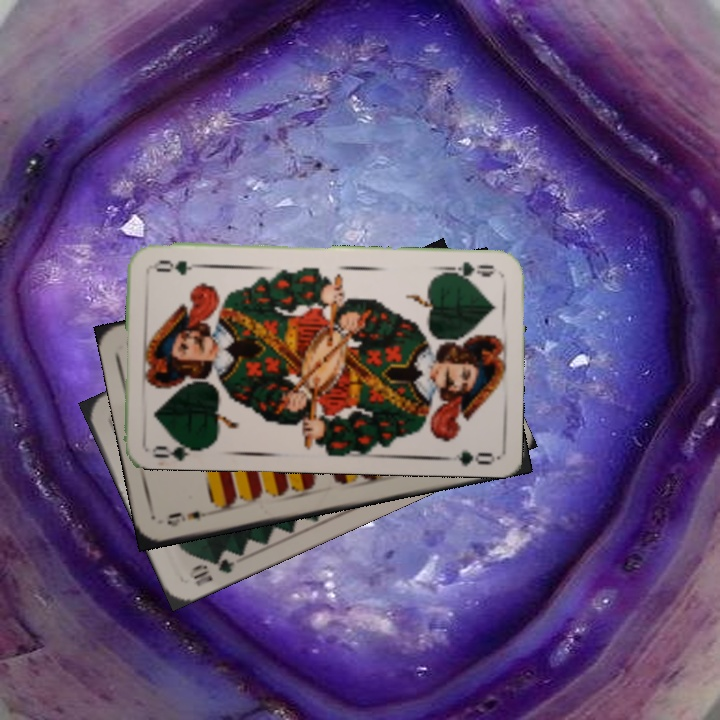E9: (163, 506, 218, 530)
G10: (184, 550, 238, 589)
GO: (147, 434, 206, 461), (441, 257, 496, 282)
